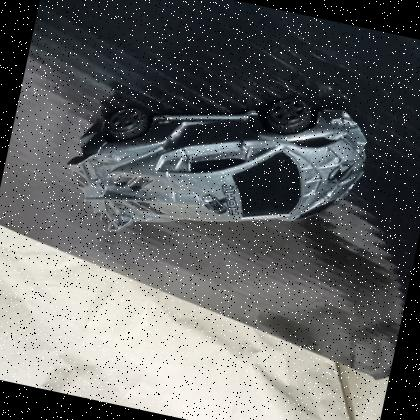Car: (51, 43, 386, 286)
